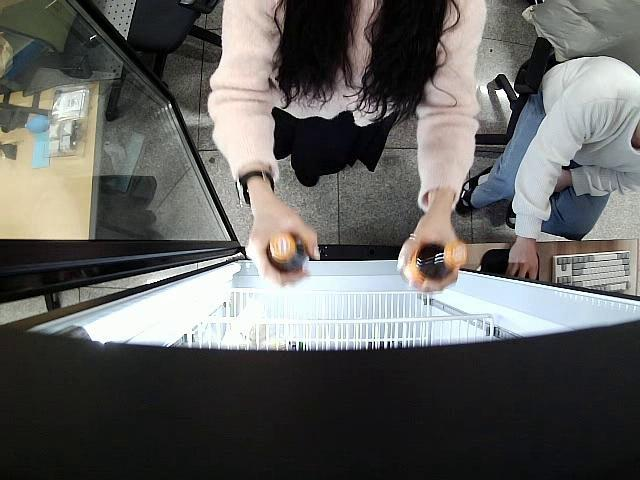17_vita500: (402, 241, 468, 286), (266, 230, 308, 275)
